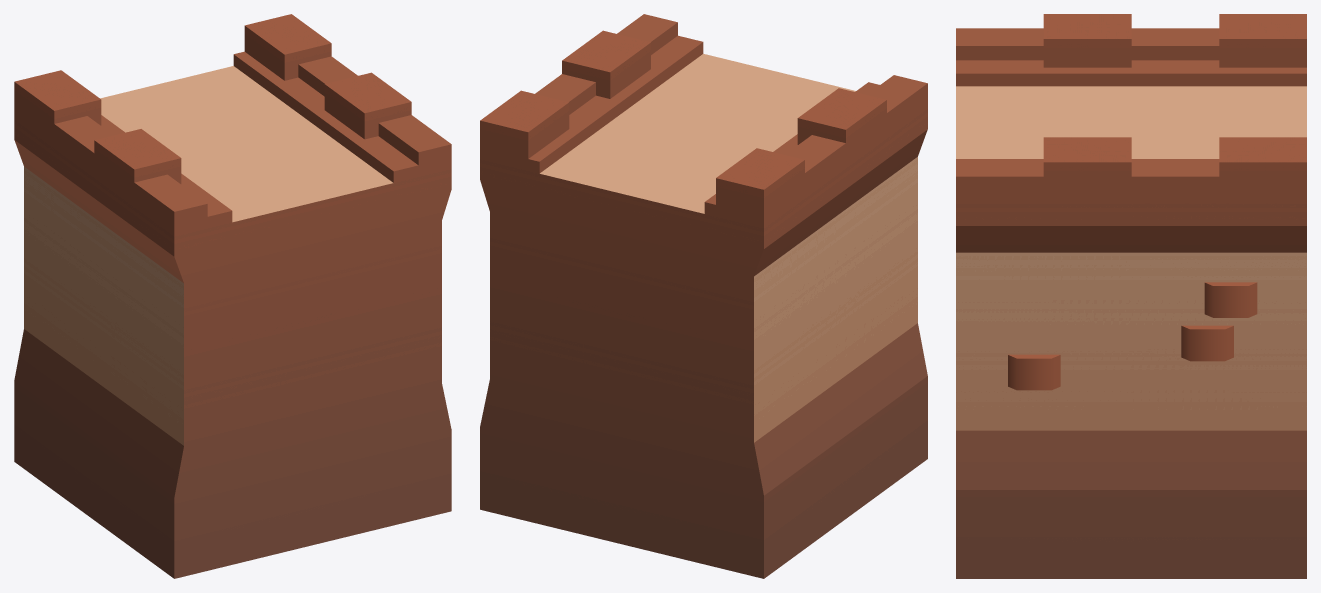
Rendered from wall.glb.
3 renders of one model, left to right at view 1: azimuth 30°, elevation 25°; view 2: azimuth 150°, elevation 25°; view 3: azimuth 270°, elevation 25°, orthographic. The views are drawn at different scales.
Parts seen in each view (by area): view 1: wall; view 2: wall; view 3: wall.
Boxes of the visible parts, <box> form: wall: <box>14,14,451,578</box>; wall: <box>480,14,927,578</box>; wall: <box>956,14,1306,578</box>.
Bounding box in the file's own units: 3 × 3.93 × 3.
1 material, 1 textured.
